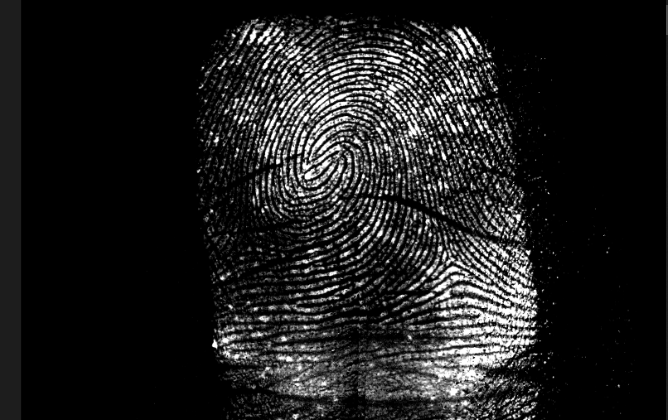nucelo: (300, 146, 354, 181)
verticilo: (432, 244, 464, 272)
